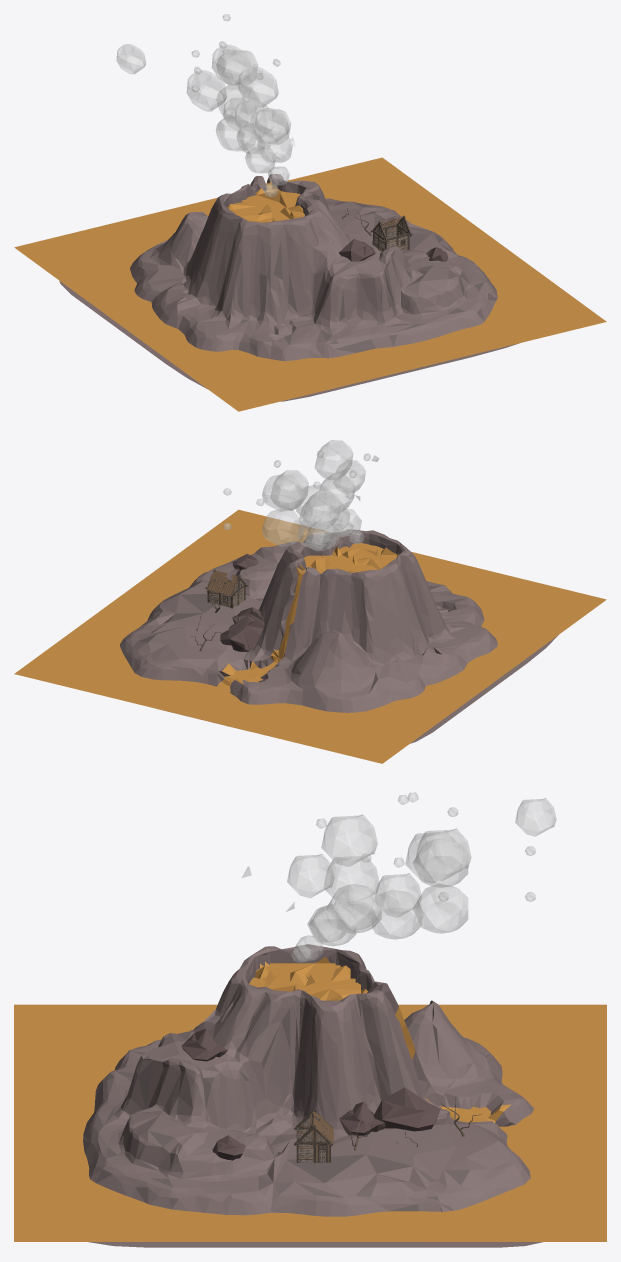
The model's file is volcano.fbx.
3 renders of one model, top to bottom at view 1: azimuth 30°, elevation 25°; view 2: azimuth 150°, elevation 25°; view 3: azimuth 270°, elevation 25°, orthographic. The views are drawn at different scales.
Parts seen in each view (by area): view 1: pPlane1, pPlane3, pPlane2, pCube345, pCube340, pCube350, pCube349, pCube338, pCube335, pCube11, pCube344, pCube6 (+6 smaller); view 2: pPlane1, pPlane3, pPlane2, pCube344, pCube349, pCube340, pCube350, pCube345, pCube2, pCube11, pCube338, pCube335 (+2 smaller); view 3: pPlane1, pPlane3, pPlane2, pCube340, pCube350, pCube344, pCube8, pCube338, pCube349, pCube2, pCube11, pCube335 (+8 smaller).
Boxes of the visible parts, <box> form: pPlane1: <box>59,174,519,401</box>; pPlane3: <box>14,157,606,411</box>; pPlane2: <box>227,188,304,222</box>; pCube345: <box>186,70,227,111</box>; pCube340: <box>238,66,278,107</box>; pCube350: <box>211,44,251,85</box>; pCube349: <box>216,50,258,86</box>; pCube338: <box>234,99,273,139</box>; pCube335: <box>255,108,289,142</box>; pCube11: <box>215,116,255,151</box>; pCube344: <box>216,85,257,117</box>; pCube6: <box>257,135,292,162</box>; pPlane1: <box>120,529,558,743</box>; pPlane3: <box>14,509,606,763</box>; pPlane2: <box>304,543,399,573</box>; pCube344: <box>262,509,304,546</box>; pCube349: <box>262,474,304,511</box>; pCube340: <box>314,440,353,480</box>; pCube350: <box>270,470,308,510</box>; pCube345: <box>302,490,341,530</box>; pCube2: <box>220,616,264,651</box>; pCube11: <box>298,518,340,551</box>; pCube338: <box>319,473,355,512</box>; pCube335: <box>333,460,365,493</box>; pPlane1: <box>83,944,542,1247</box>; pPlane3: <box>14,1004,606,1241</box>; pPlane2: <box>249,956,367,1007</box>; pCube340: <box>321,814,377,866</box>; pCube350: <box>415,828,471,880</box>; pCube344: <box>413,884,468,933</box>; pCube8: <box>326,884,381,933</box>; pCube338: <box>323,855,379,906</box>; pCube349: <box>413,838,468,887</box>; pCube2: <box>374,1087,440,1131</box>; pCube11: <box>371,890,421,939</box>; pCube335: <box>287,854,334,897</box>.
Bounding box in the file's own units: 8892 × 5568 × 9389.
